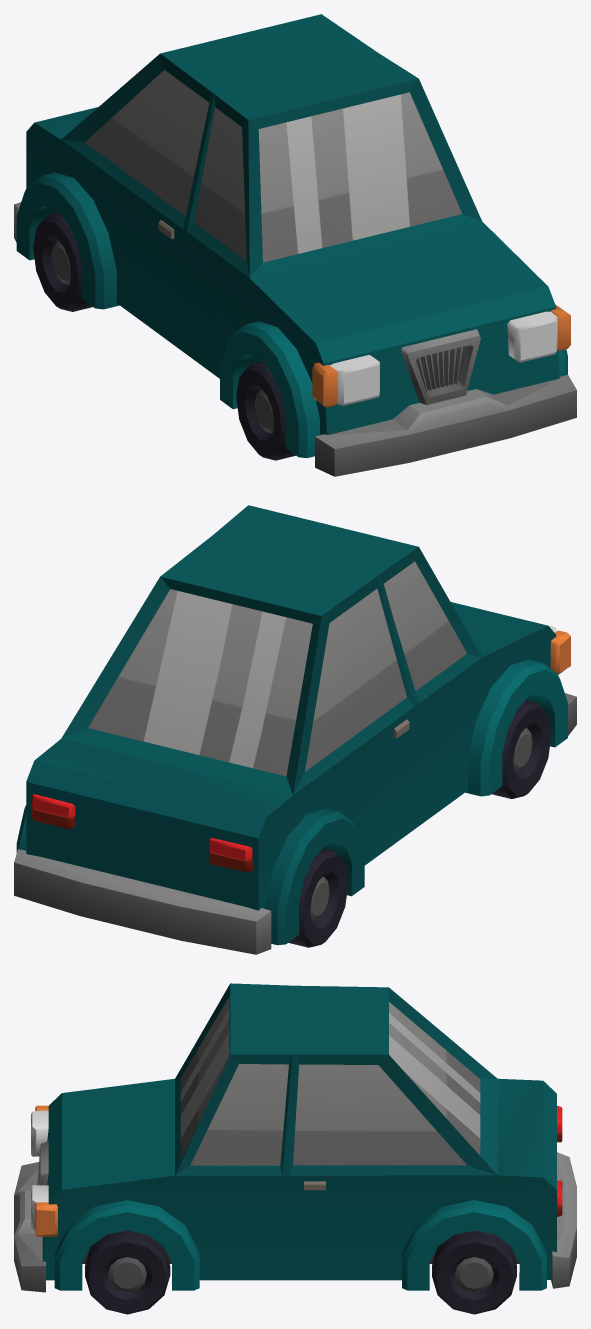
Rendered from Car_4_8.glb.
The picture shows the model from 3 angles, top to bottom: view 1: azimuth 30°, elevation 25°; view 2: azimuth 150°, elevation 25°; view 3: azimuth 270°, elevation 25°; orthographic projection. The views are drawn at different scales.
Parts seen in each view (by area): view 1: Car_4_8, BWhel_FR, BWhel_BR; view 2: Car_4_8, BWhel_BR, BWhel_FR; view 3: Car_4_8, BWhel_FL, BWhel_BL.
Boxes of the visible parts, box(x1,y1,x2,y2) form: Car_4_8: box(14, 14, 576, 476); BWhel_FR: box(236, 361, 295, 460); BWhel_BR: box(33, 212, 92, 311); Car_4_8: box(14, 505, 576, 954); BWhel_BR: box(288, 848, 348, 947); BWhel_FR: box(491, 700, 551, 798); Car_4_8: box(14, 983, 576, 1292); BWhel_FL: box(85, 1230, 170, 1314); BWhel_BL: box(432, 1230, 516, 1314).
Bounding box in the file's own units: 1.09 × 1.09 × 2.3.
Materials: 6 (6 with a texture image).
